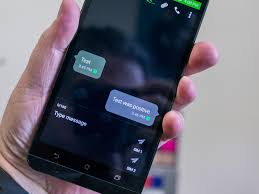asus: (25, 1, 223, 193)
